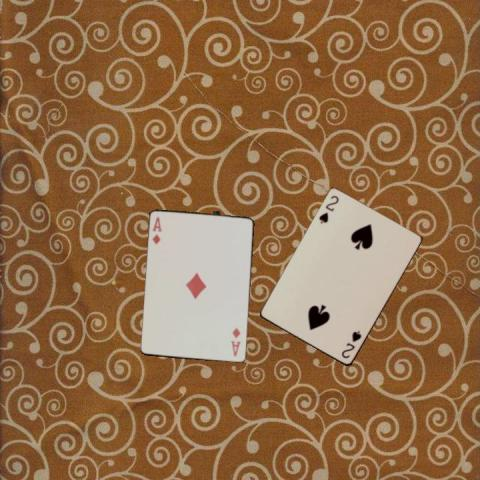2s: (338, 328, 362, 360), (316, 193, 340, 225)
Ad: (229, 325, 242, 358), (150, 214, 163, 246)
